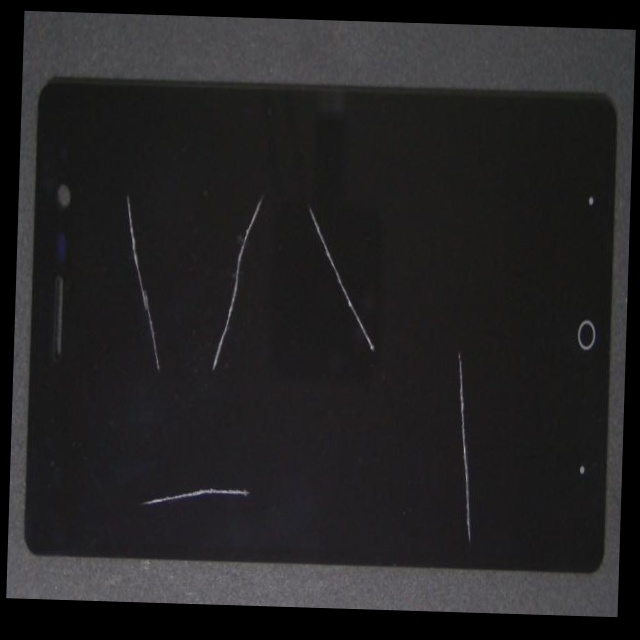scratch: (248, 387, 624, 617), (147, 34, 340, 397)
